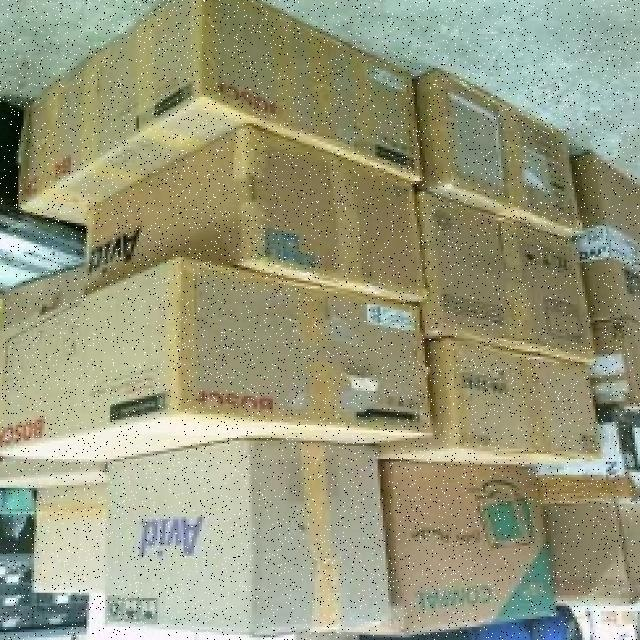box: (0, 13, 425, 205), (0, 278, 428, 467), (61, 134, 443, 312), (94, 446, 376, 640), (354, 456, 572, 618), (410, 194, 590, 377), (396, 66, 584, 241), (382, 332, 598, 472), (569, 150, 640, 333), (523, 495, 635, 607), (547, 426, 635, 504), (582, 312, 640, 412)
